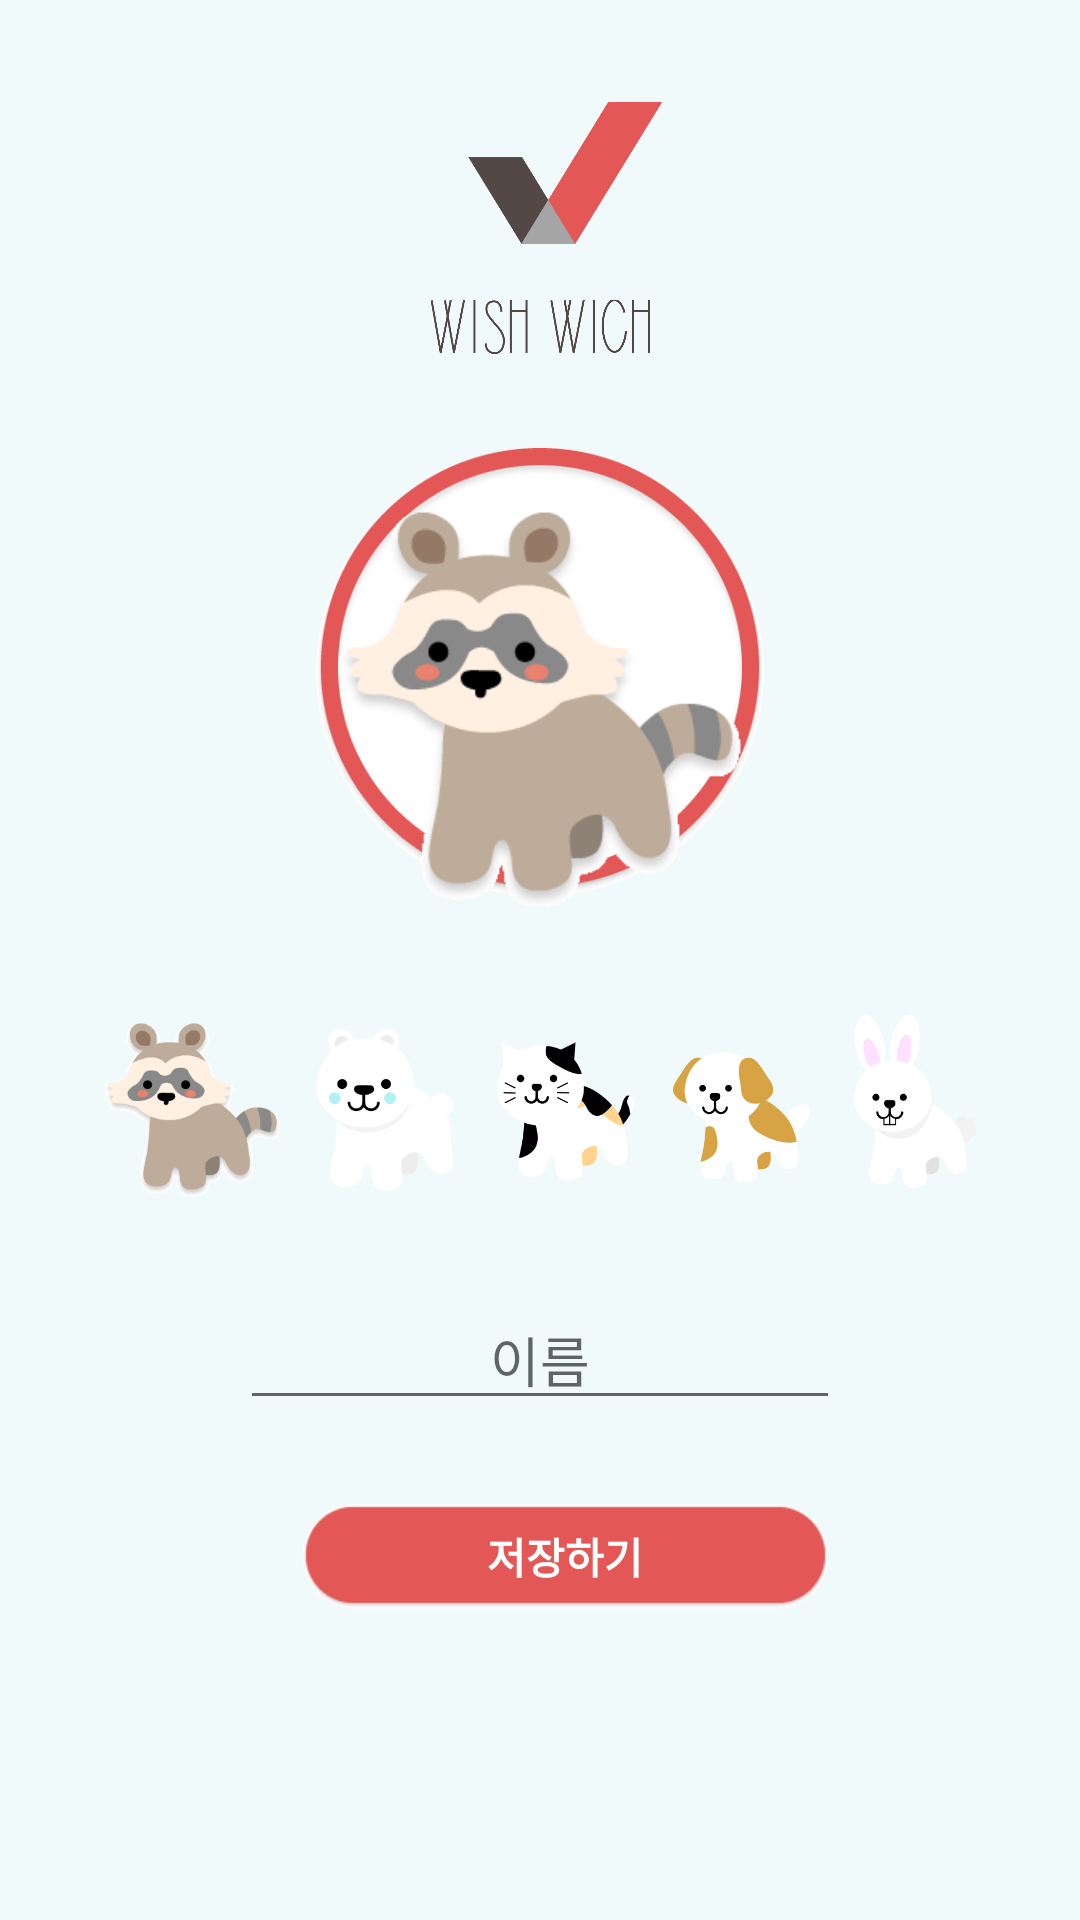

Locate icon controls on the screen. Image size 1080px x 1920px, boxes as (x1, y1, x2, y2).
app: (468, 102, 662, 244)
